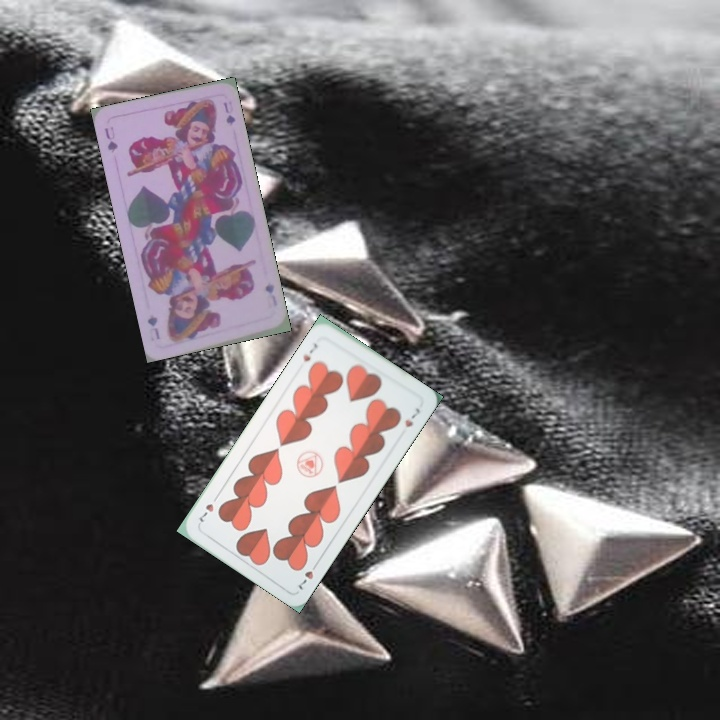GU: (100, 123, 120, 155), (261, 278, 280, 309)
H7: (294, 557, 321, 592), (299, 339, 320, 364)
